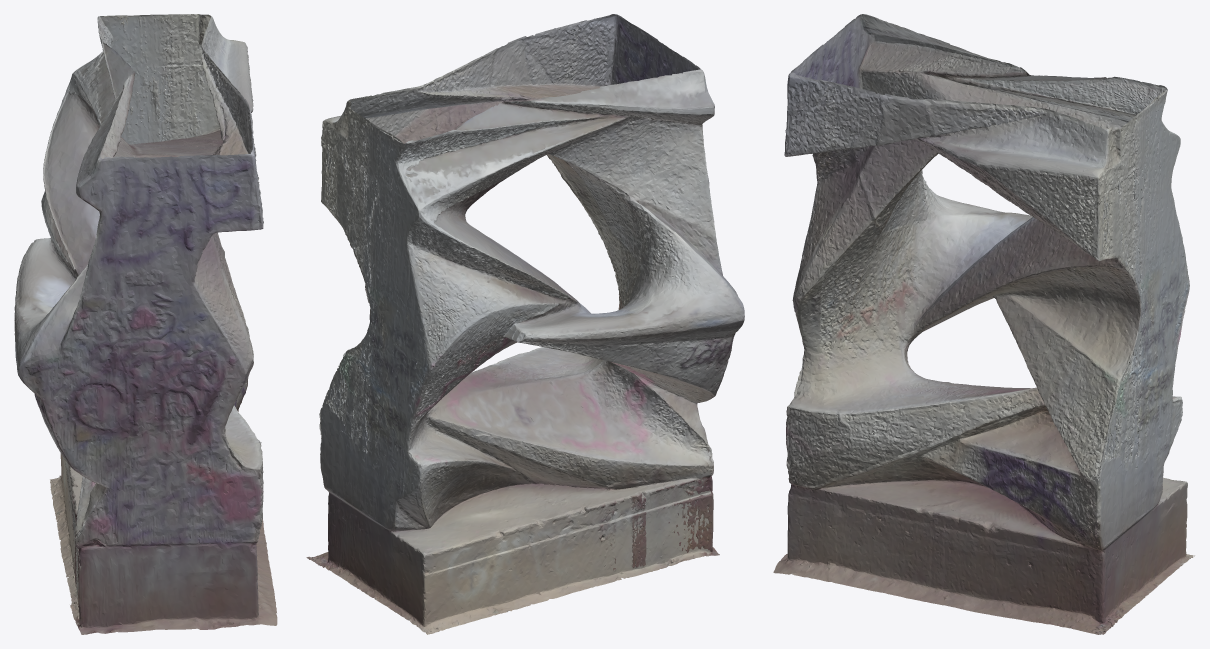
Rendered from statue_hybrid.glb.
The picture shows the model from 3 angles, left to right: view 1: azimuth 30°, elevation 25°; view 2: azimuth 150°, elevation 25°; view 3: azimuth 270°, elevation 25°; orthographic projection. The views are drawn at different scales.
Parts seen in each view (by area): view 1: geometry_0; view 2: geometry_0; view 3: geometry_0.
Part boxes in pixels (left/top/right/bottom): geometry_0: left=14, top=14, right=277, bottom=634; geometry_0: left=306, top=14, right=744, bottom=634; geometry_0: left=773, top=14, right=1194, bottom=634.
Bounding box in the file's own units: 2.2 × 2.98 × 2.3.
